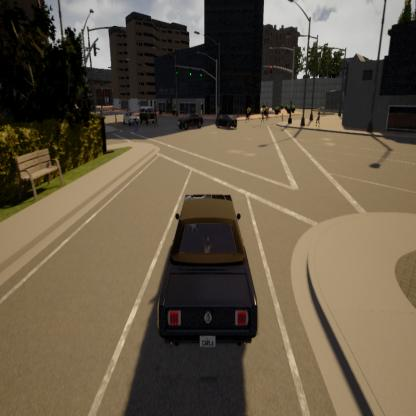Cars: (150, 178, 262, 360), (174, 108, 204, 134)
